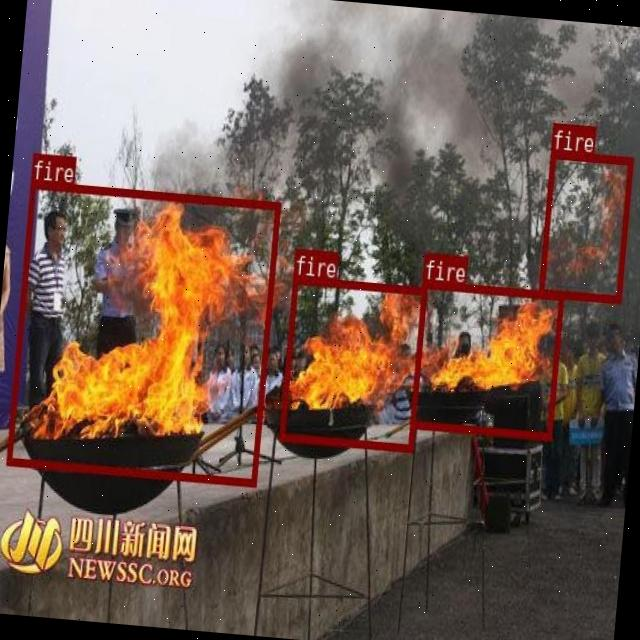fire: (5, 180, 279, 486), (278, 274, 426, 450), (409, 278, 564, 438), (537, 149, 631, 302)
